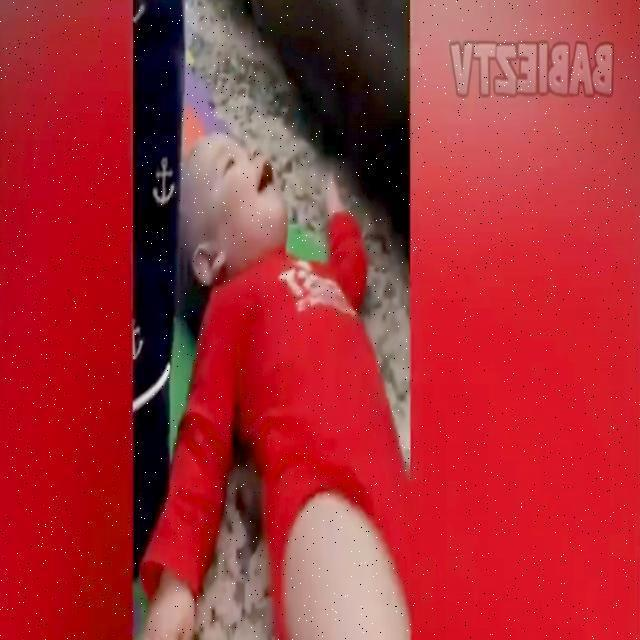child: (140, 122, 409, 640)
